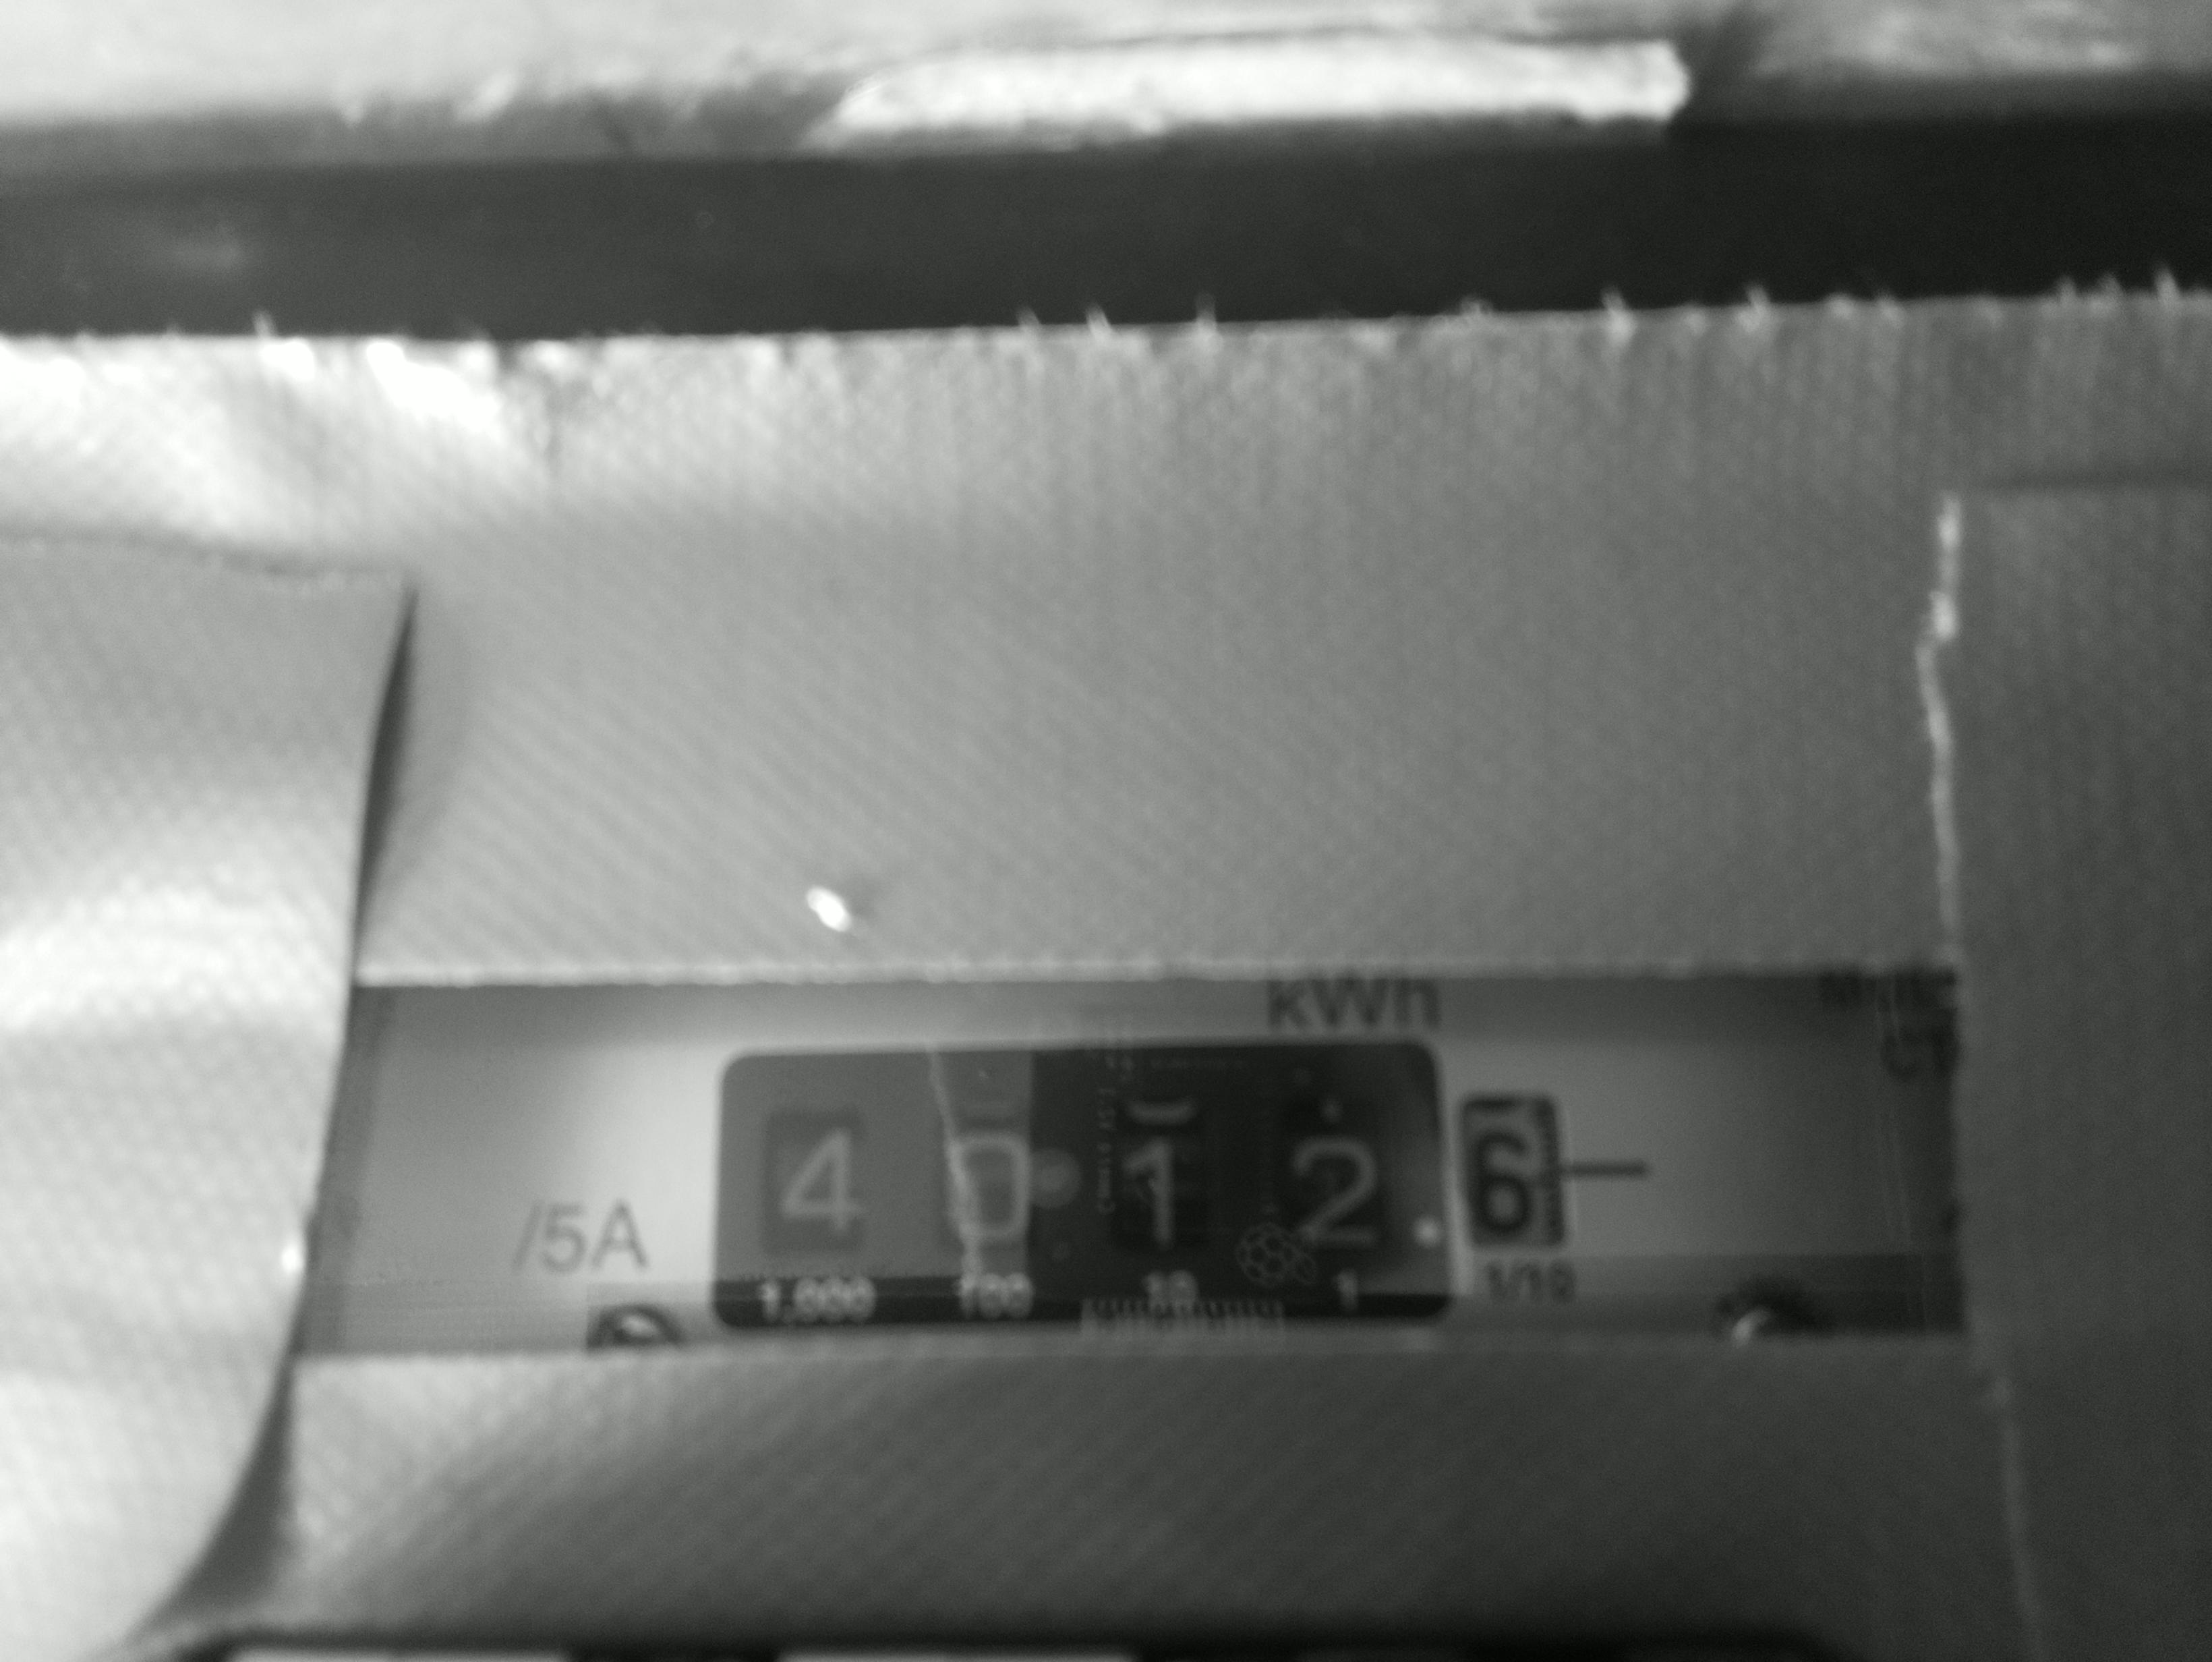meter_box: (693, 1011, 1631, 1344)
